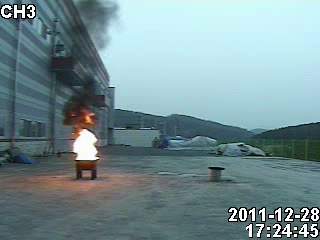fire: (71, 112, 100, 160)
